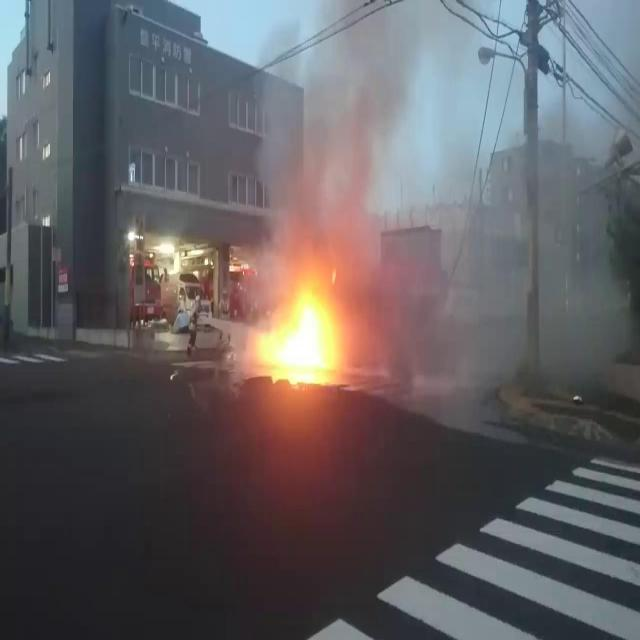Fire: (251, 289, 343, 372)
